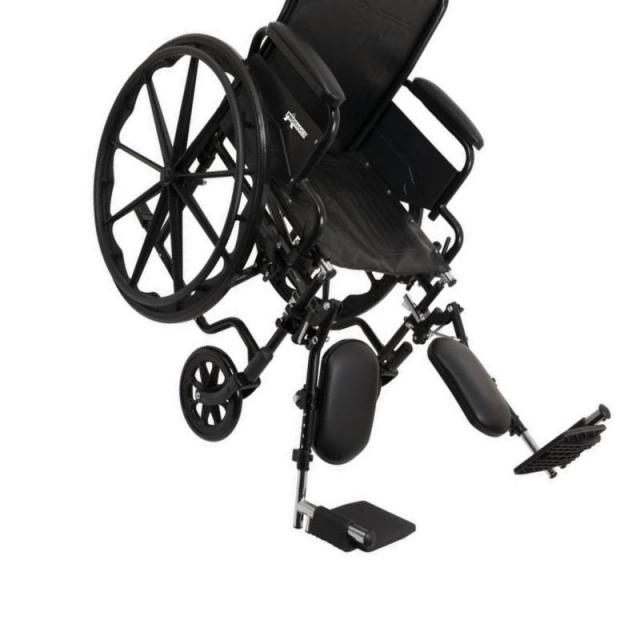wheelchair: (86, 0, 640, 558)
